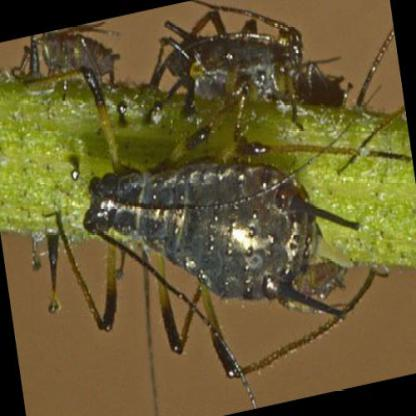uroleucon compositae: (83, 128, 359, 379)
